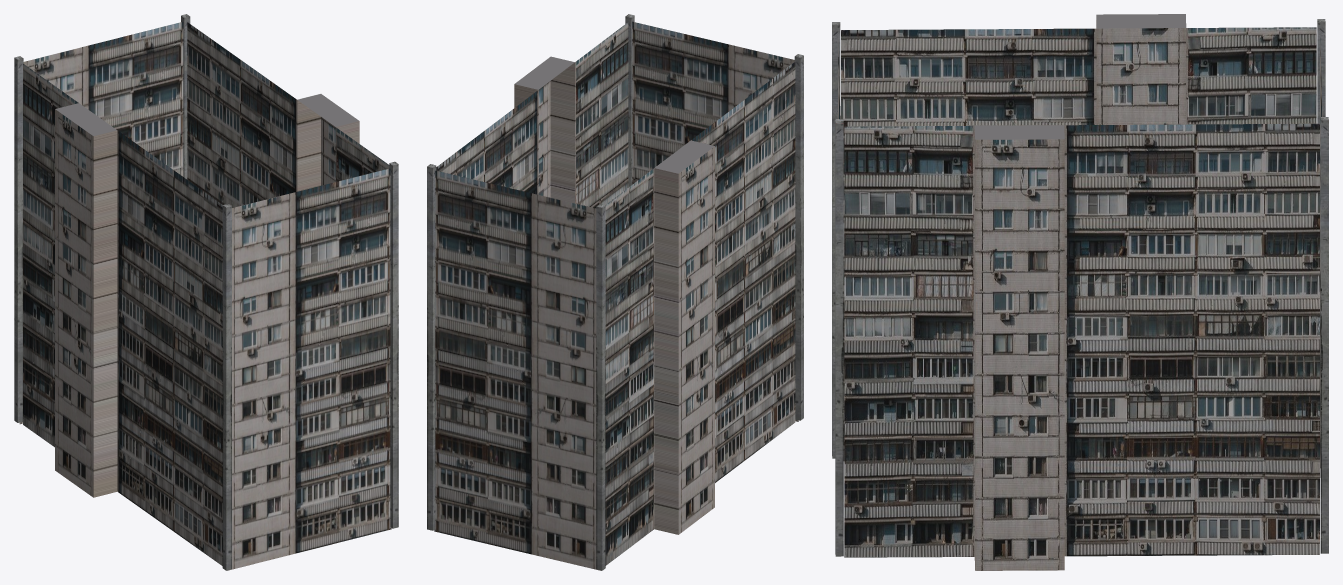
The model's file is tower_9_slab.glb.
3 renders of one model, left to right at view 1: azimuth 30°, elevation 25°; view 2: azimuth 150°, elevation 25°; view 3: azimuth 270°, elevation 25°, orthographic. The views are drawn at different scales.
Parts seen in each view (by area): view 1: tower_9_slab; view 2: tower_9_slab; view 3: tower_9_slab.
Part boxes in pixels (x1,y1,x2,y2): tower_9_slab: [14, 14, 398, 570]; tower_9_slab: [427, 14, 803, 570]; tower_9_slab: [832, 14, 1328, 570].
Size of the model in its own units: 19.59 by 31.69 by 32.69.
2 materials, 2 textured.
